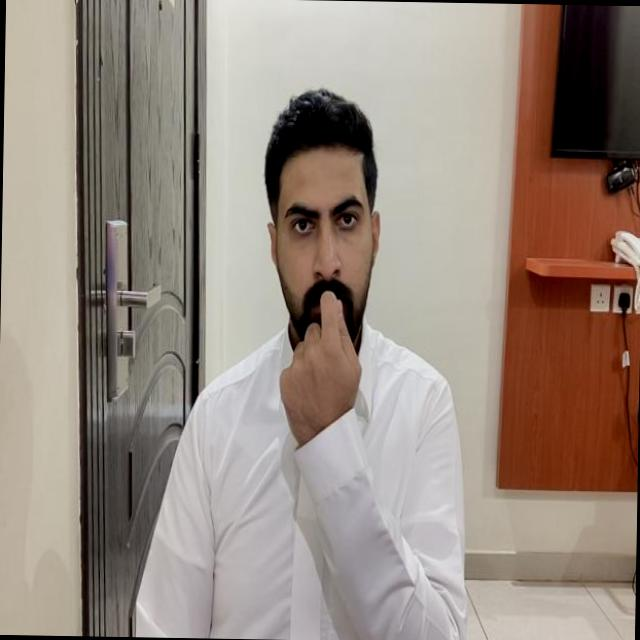medicine: (276, 288, 362, 447)
